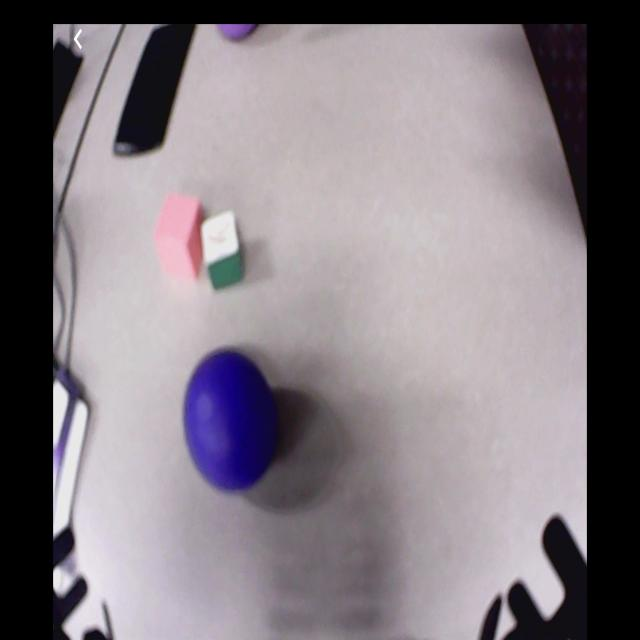ball: (182, 351, 274, 492), (214, 24, 257, 42)
